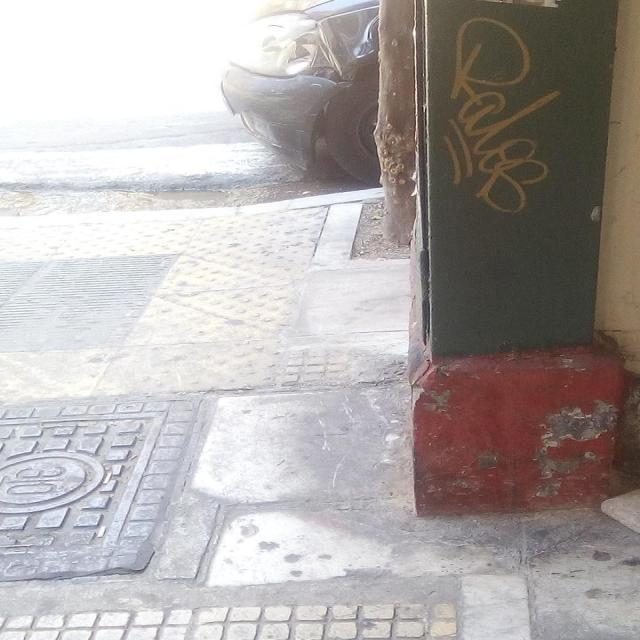nonspitting: (444, 16, 560, 210)
